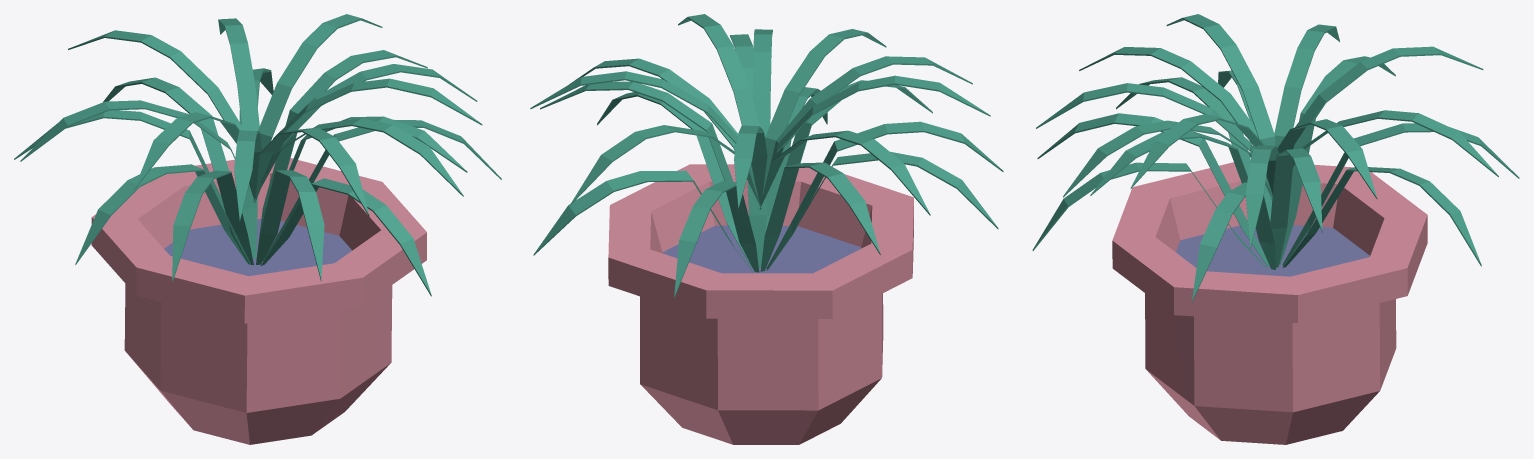
The model's file is Yogaroom_flower6.fbx.
3 views of the same model, side by side, from view 1: azimuth 30°, elevation 25°; view 2: azimuth 150°, elevation 25°; view 3: azimuth 270°, elevation 25° (orthographic).
Parts seen in each view (by area): view 1: Yogaroom_flower6; view 2: Yogaroom_flower6; view 3: Yogaroom_flower6.
Boxes of the visible parts, box(x1,y1,x2,y2) form: Yogaroom_flower6: box(14, 14, 501, 444); Yogaroom_flower6: box(530, 14, 1003, 444); Yogaroom_flower6: box(1032, 14, 1519, 444).
Size of the model in its own units: 56.43 by 43.34 by 57.08.
